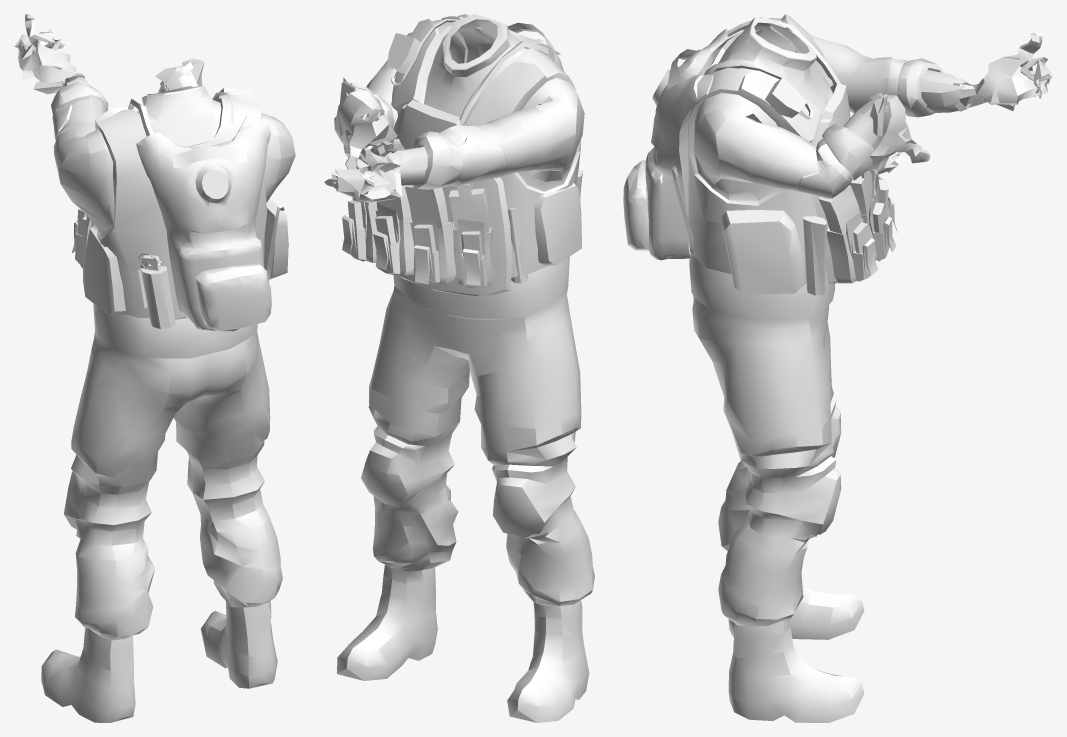
File: stf_pump.glb
3 renders of one model, left to right at view 1: azimuth 30°, elevation 25°; view 2: azimuth 150°, elevation 25°; view 3: azimuth 270°, elevation 25°, orthographic. The views are drawn at different scales.
Visible parts, largest first — view 1: body_STF, gear_STF; view 2: body_STF, gear_STF; view 3: body_STF, gear_STF.
Part boxes in pixels (box(x1,y1,x2,y2)): body_STF: box(14, 14, 295, 722); gear_STF: box(72, 88, 288, 331); body_STF: box(324, 14, 594, 722); gear_STF: box(342, 14, 582, 287); body_STF: box(682, 14, 1052, 722); gear_STF: box(623, 16, 897, 295).
Size of the model in its own units: 58.61 by 164 by 98.55.
Materials: 2 (2 with a texture image).
